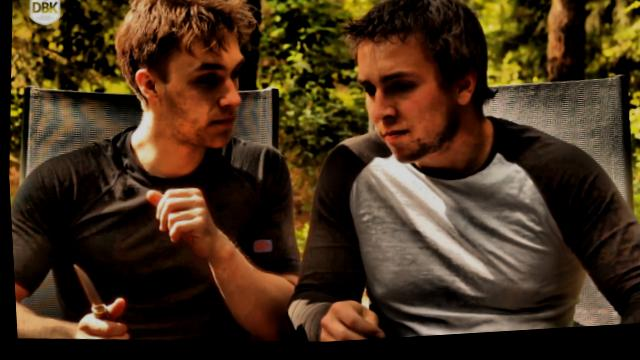knife: (57, 252, 134, 344)
